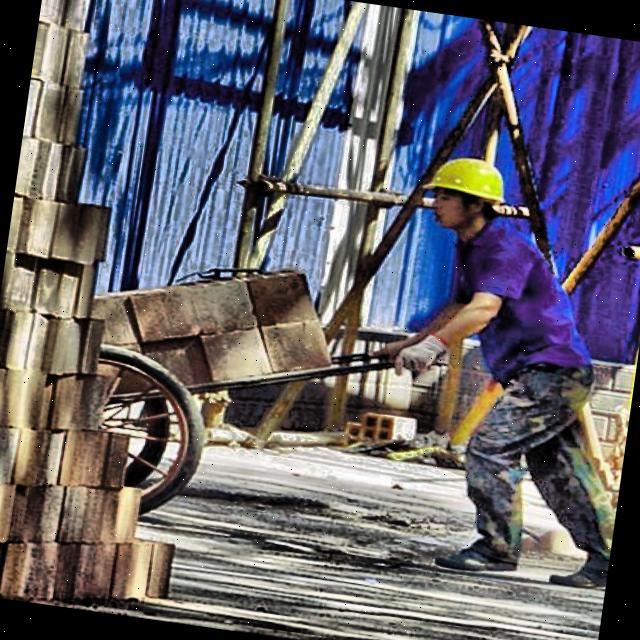helmet: (416, 142, 520, 245)
